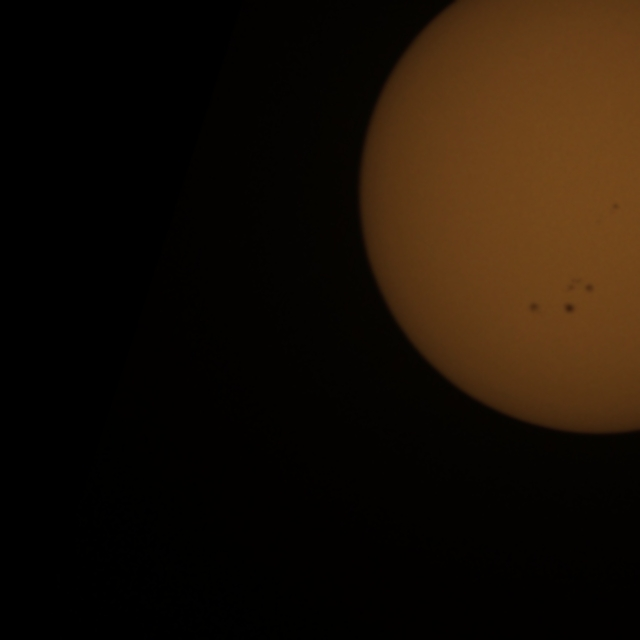sunspot: (593, 202, 621, 226), (564, 278, 596, 298), (562, 301, 577, 316), (527, 300, 541, 315), (611, 201, 621, 213)
